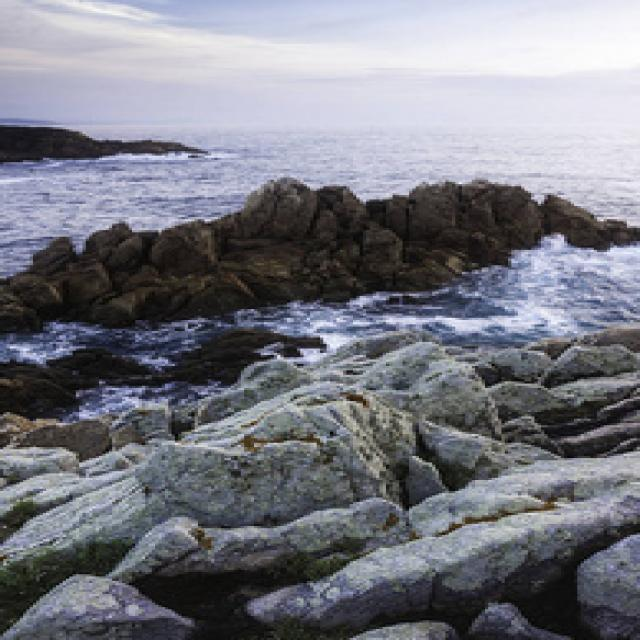reef: (100, 150, 574, 416)
